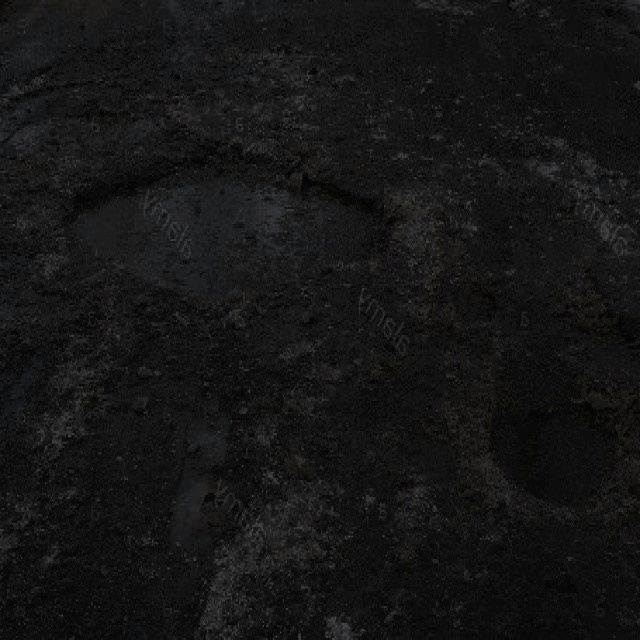Pothole: (60, 134, 402, 308), (490, 394, 624, 508), (160, 401, 256, 548)
